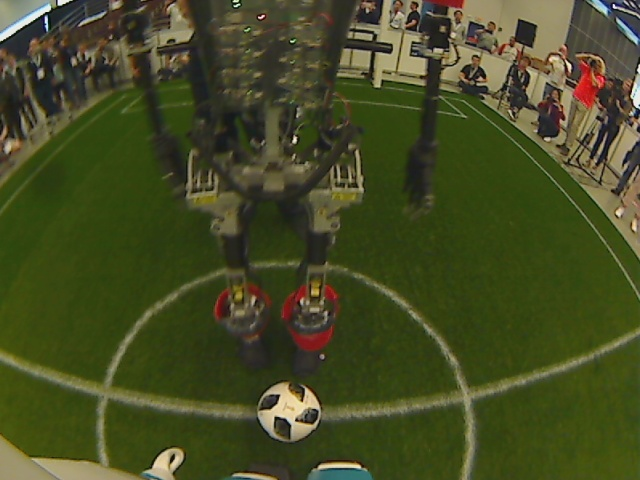ball: (254, 377, 325, 446)
